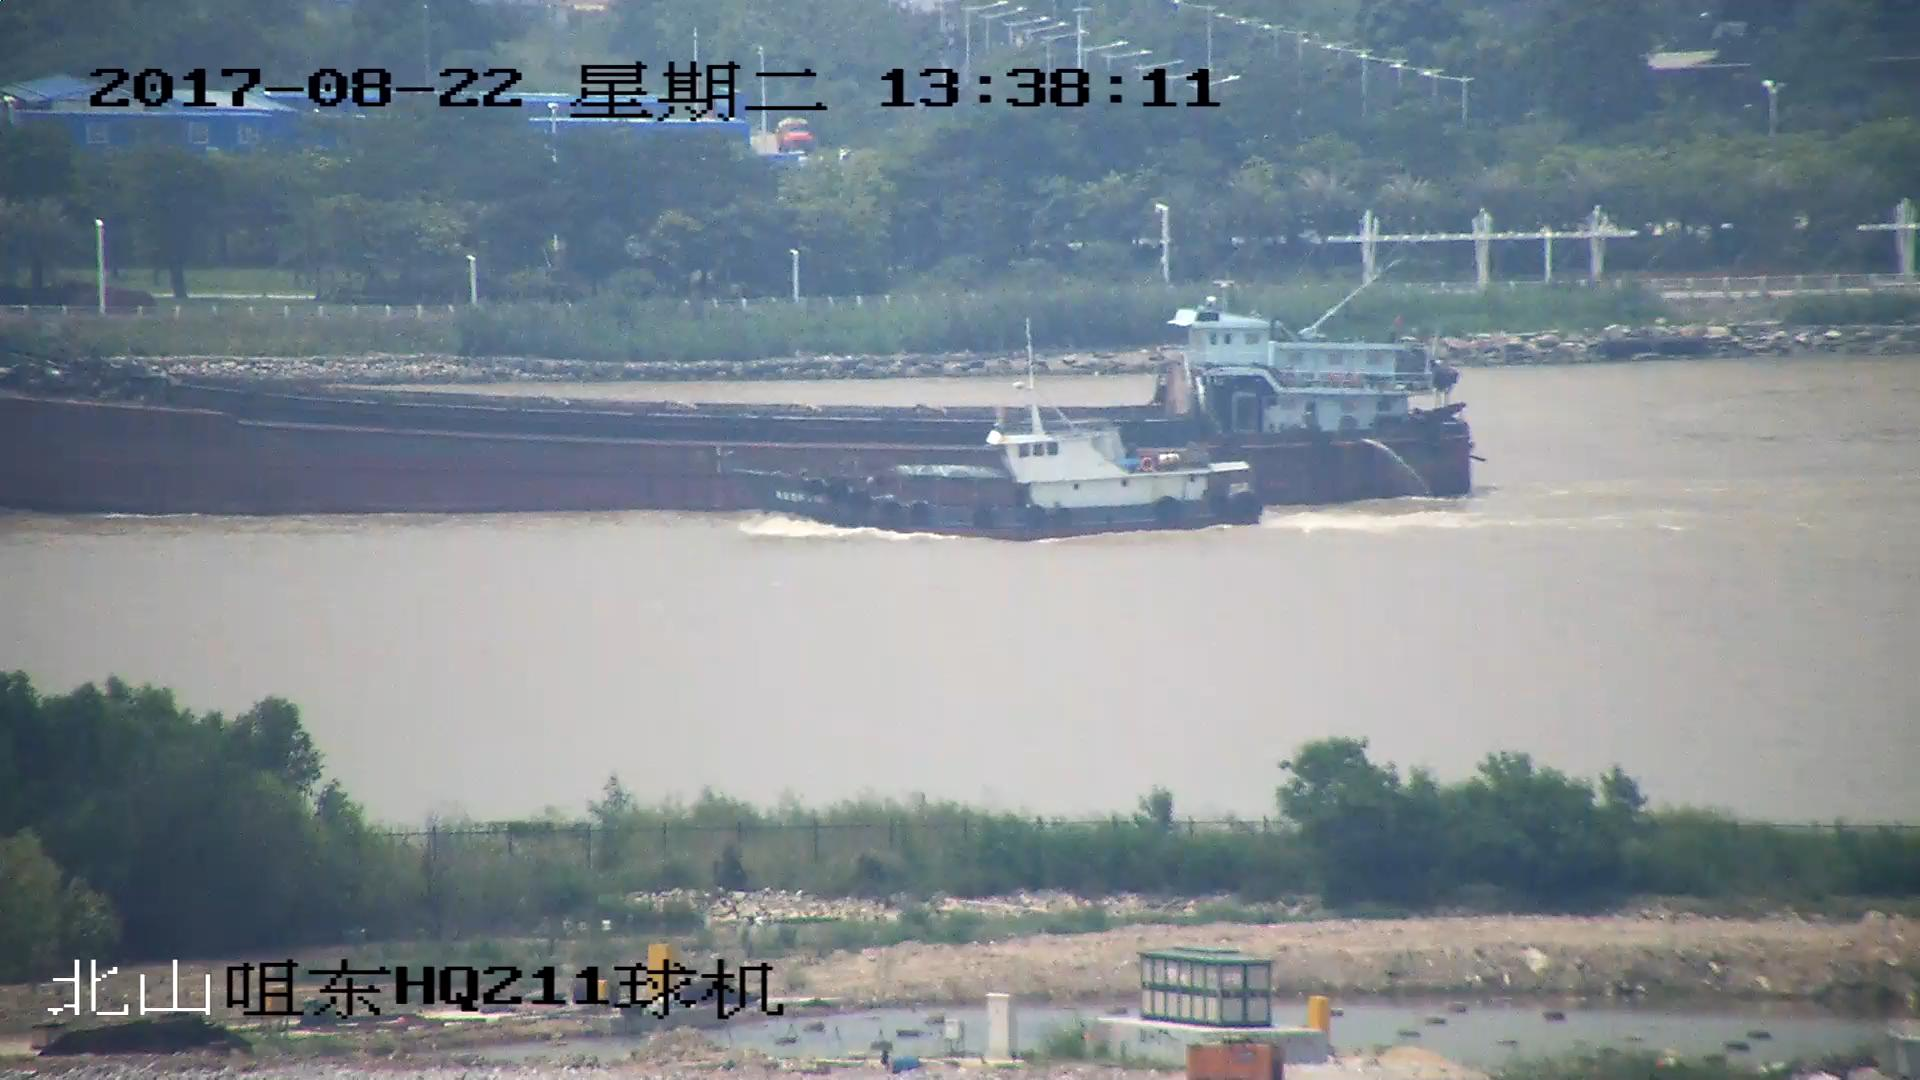bulk cargo carrier: (1, 287, 1480, 514)
passenger ship: (784, 342, 1265, 544)
